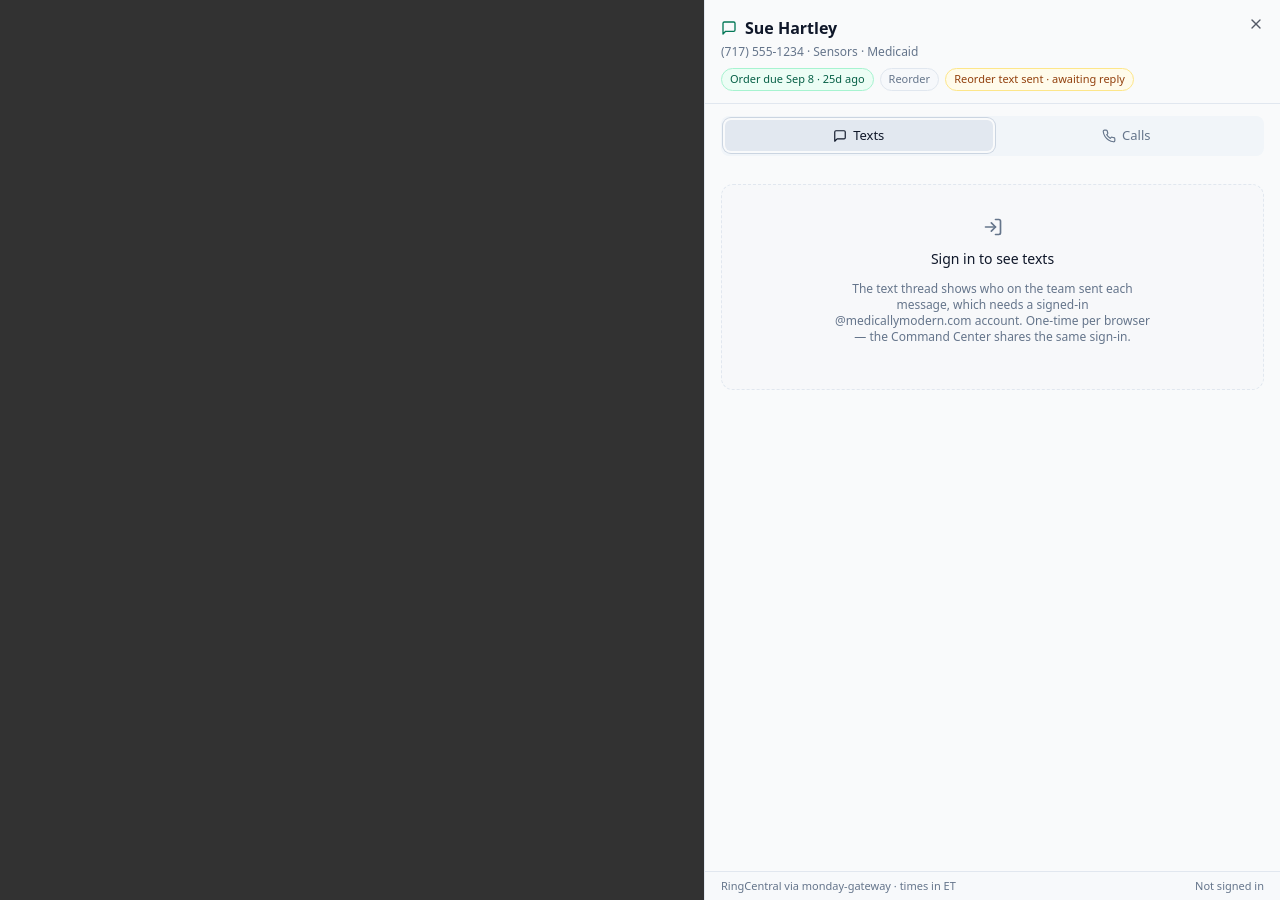
Test case: CommsSheet (render smoke) › opens with the board context in the header and loads calls on the Calls tab
Expected: the heading "Sue Hartley" is shown, [721,17,837,39]
Expected: the text "(717) 555-1234 · Sensors · Medicaid" is shown, [721,43,918,60]
Press the mouse on the tab "Calls" at (1126, 136), box [992,120,1260,151]
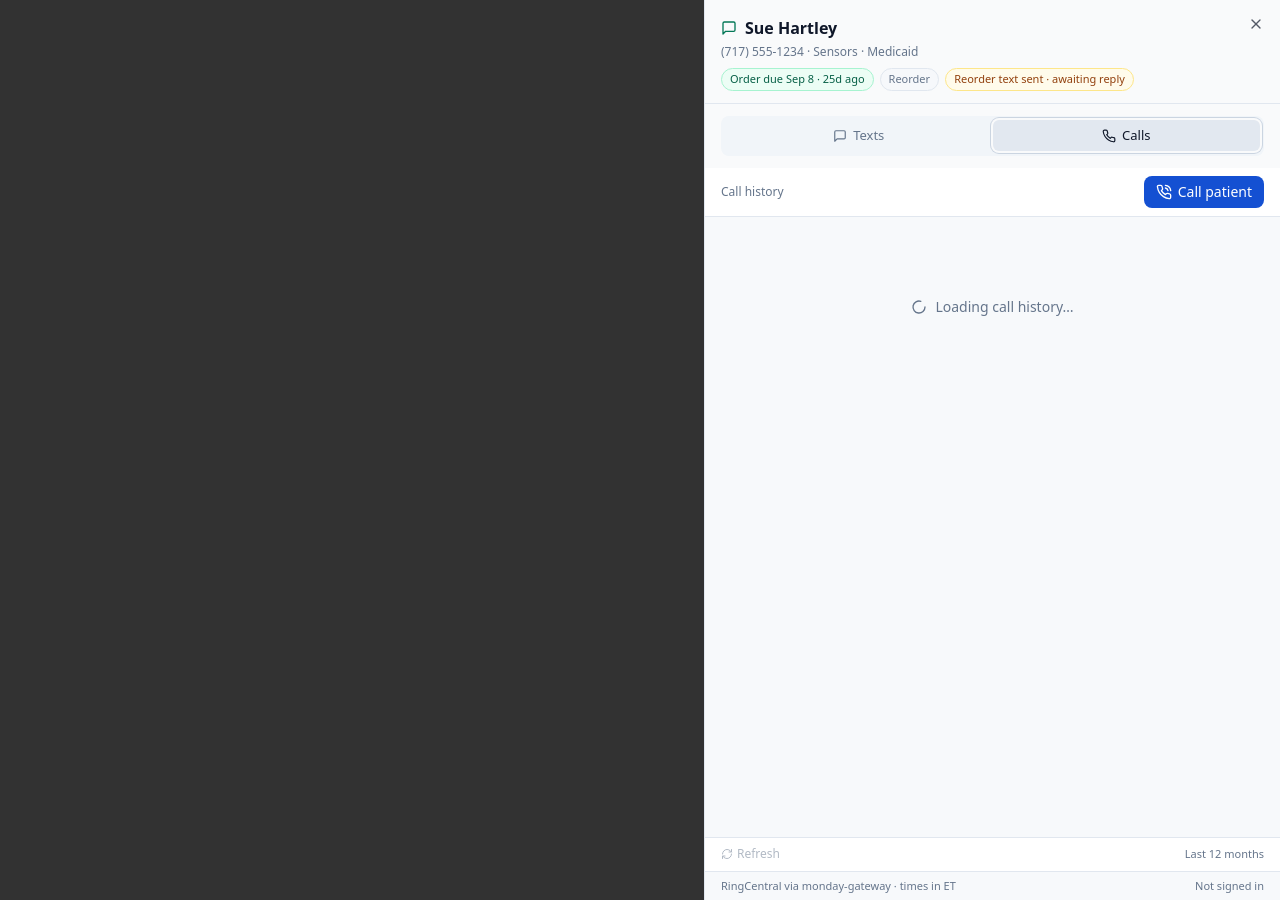
Click the tab "Calls" at (1126, 136), box [992,120,1260,151]
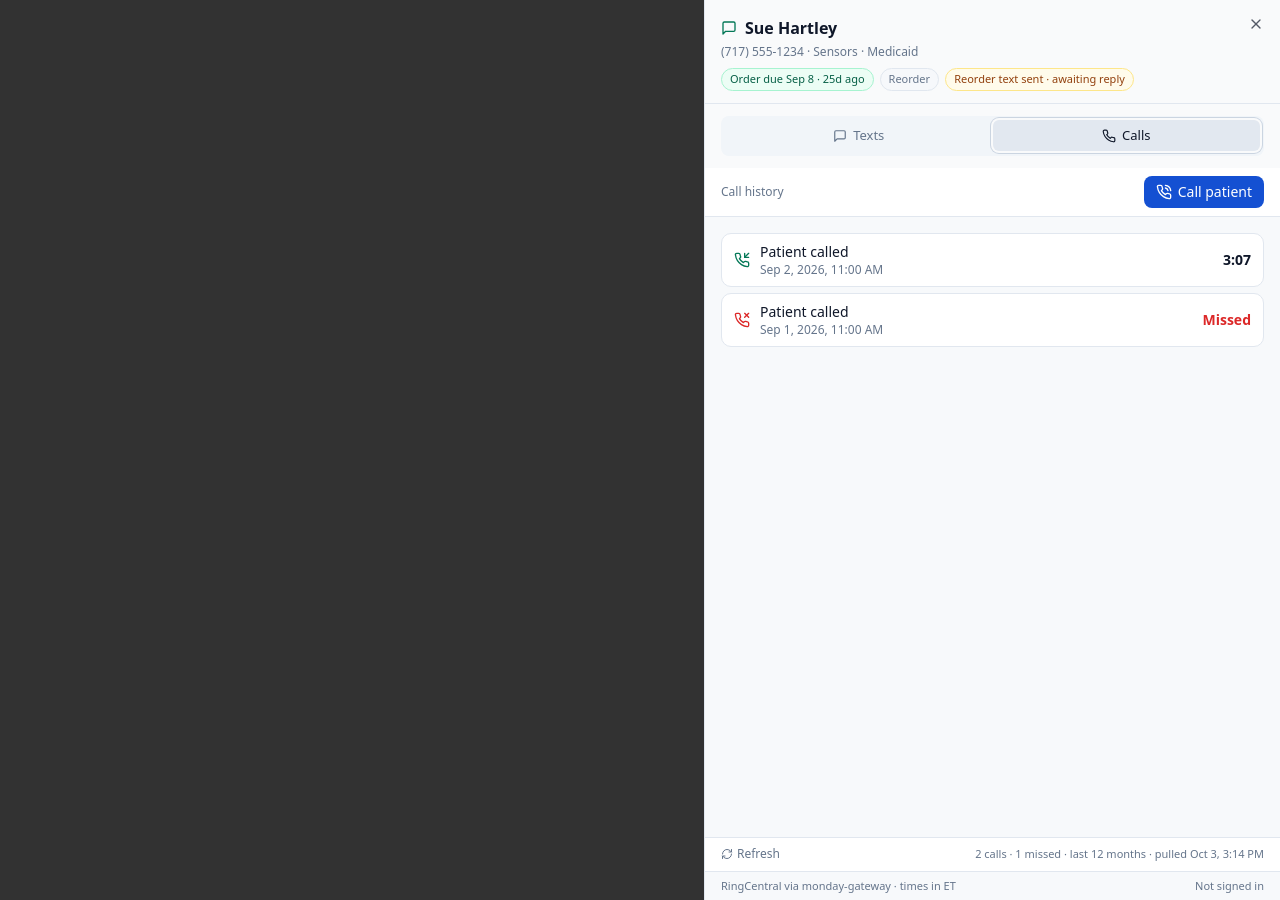
Now the text "Patient called" is shown 2 times, box [760,242,848,260]; [760,302,848,320]
Now the text "3:07" is shown, box [1223,250,1251,270]
Now the text "Missed" is shown, box [1202,310,1251,330]
